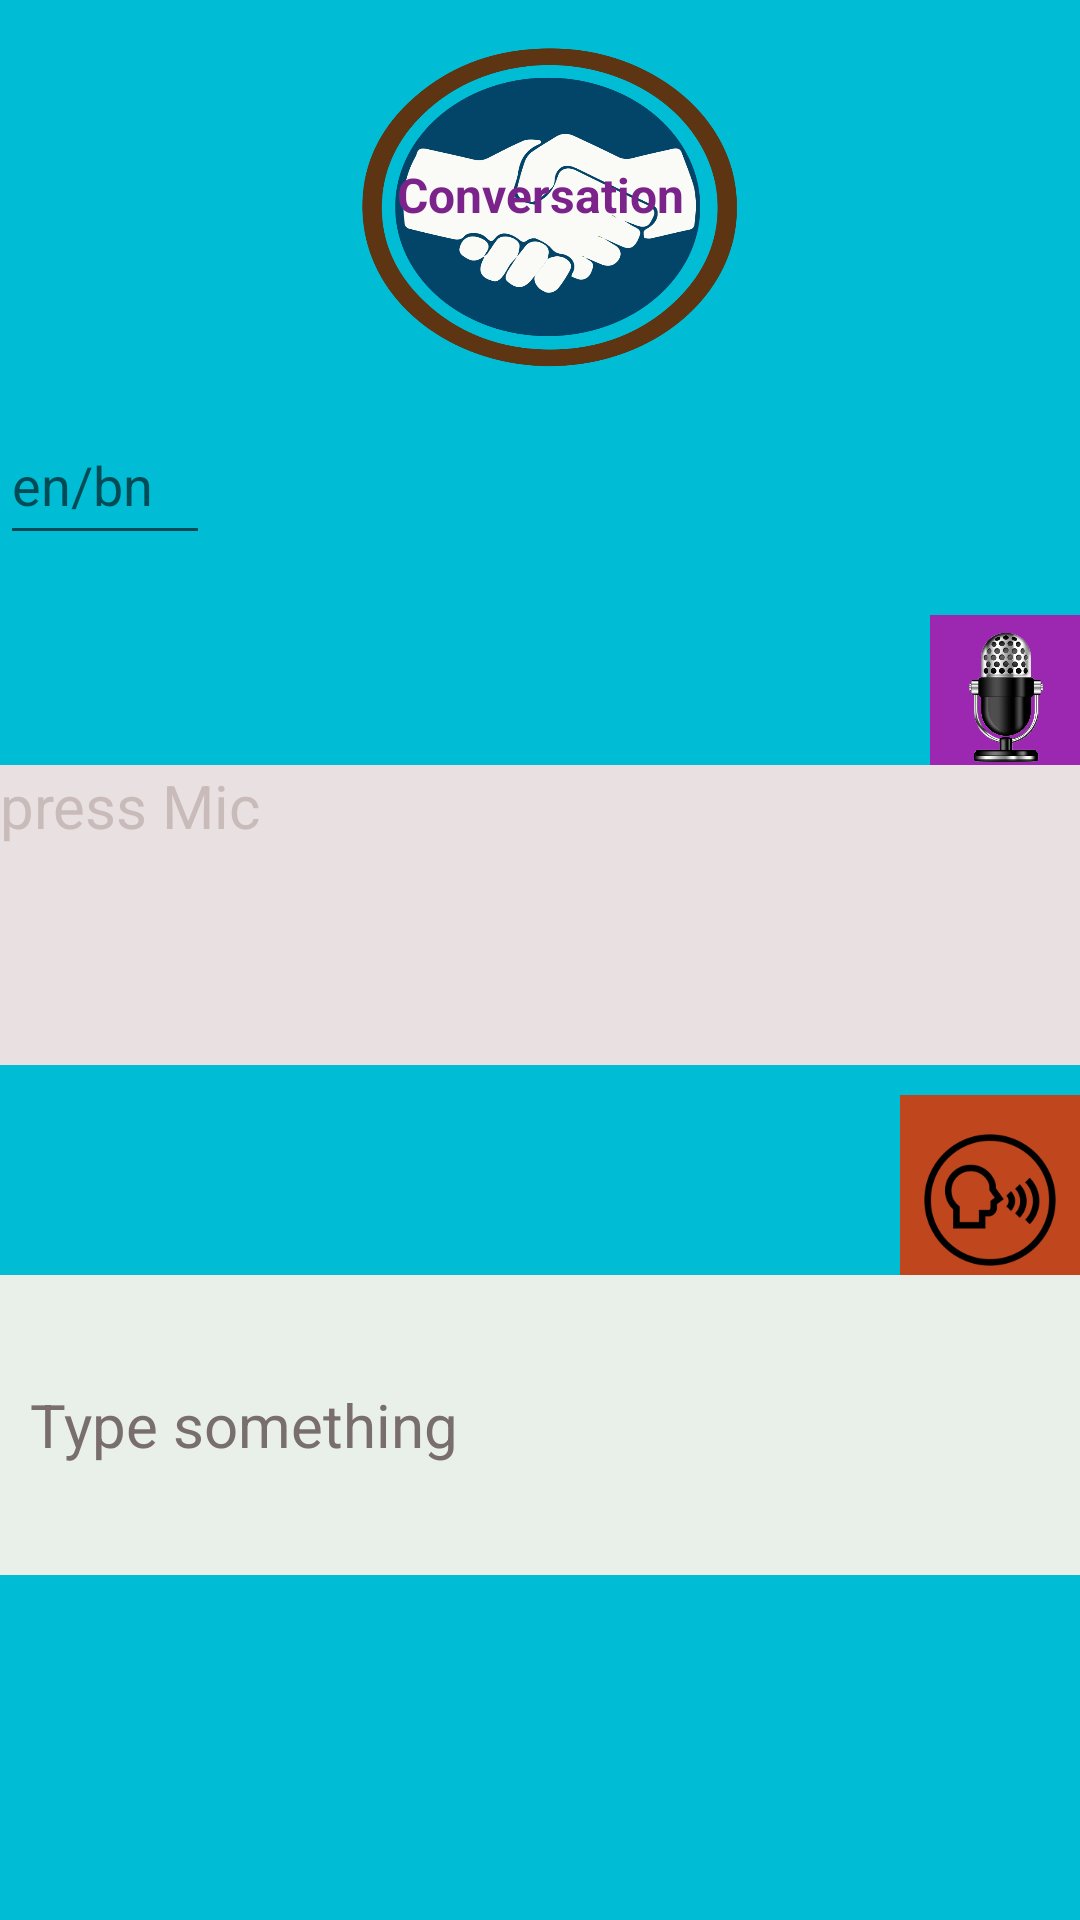

Locate icon controls on the screen. Image size 1080 x 1920, boxes as (x1, y1, x2, y2).
speek: (900, 1095, 1080, 1275)
